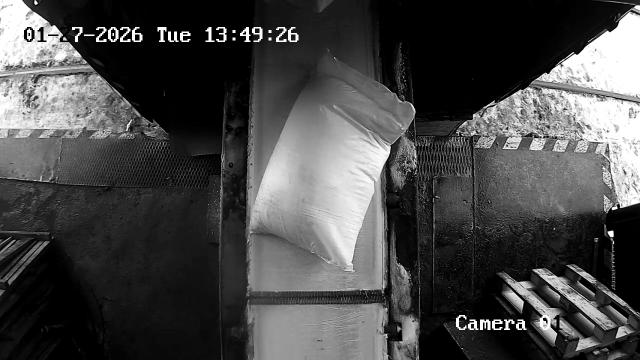bag: (251, 50, 414, 272)
